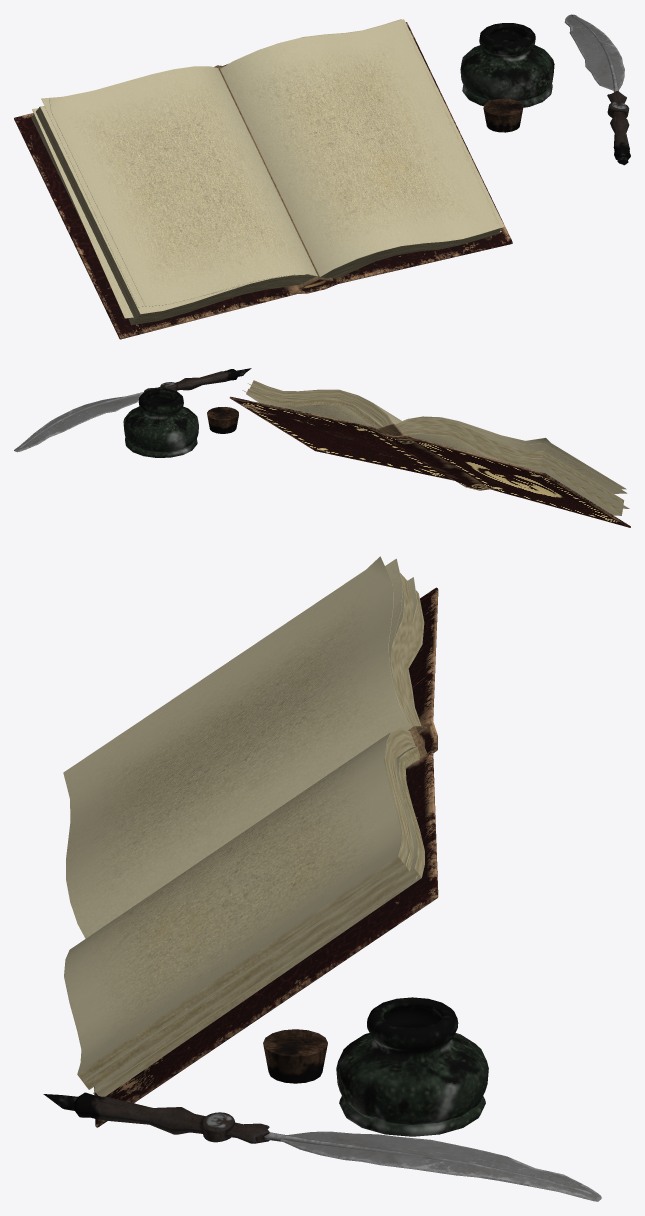
File: Book_and_Writing_supplies.fbx
3 views of the same model, one above another, from view 1: azimuth 30°, elevation 25°; view 2: azimuth 150°, elevation 25°; view 3: azimuth 270°, elevation 25° (orthographic). The views are drawn at different scales.
Visible parts, largest first — view 1: Book, Inkwell, Pen, Сork; view 2: Book, Inkwell, Pen, Сork; view 3: Book, Inkwell, Pen, Сork.
Boxes of the visible parts, x1,y1,x2,y2 form: Book: (14,19,512,339); Inkwell: (460,23,554,107); Pen: (564,14,630,165); Сork: (483,98,523,132); Book: (229,380,630,527); Inkwell: (123,388,198,457); Pen: (14,368,251,452); Сork: (207,407,238,433); Book: (63,556,438,1127); Inkwell: (336,997,488,1136); Pen: (43,1092,601,1201); Сork: (263,1029,327,1083).
Size of the model in its own units: 71.09 by 19.14 by 34.95.
